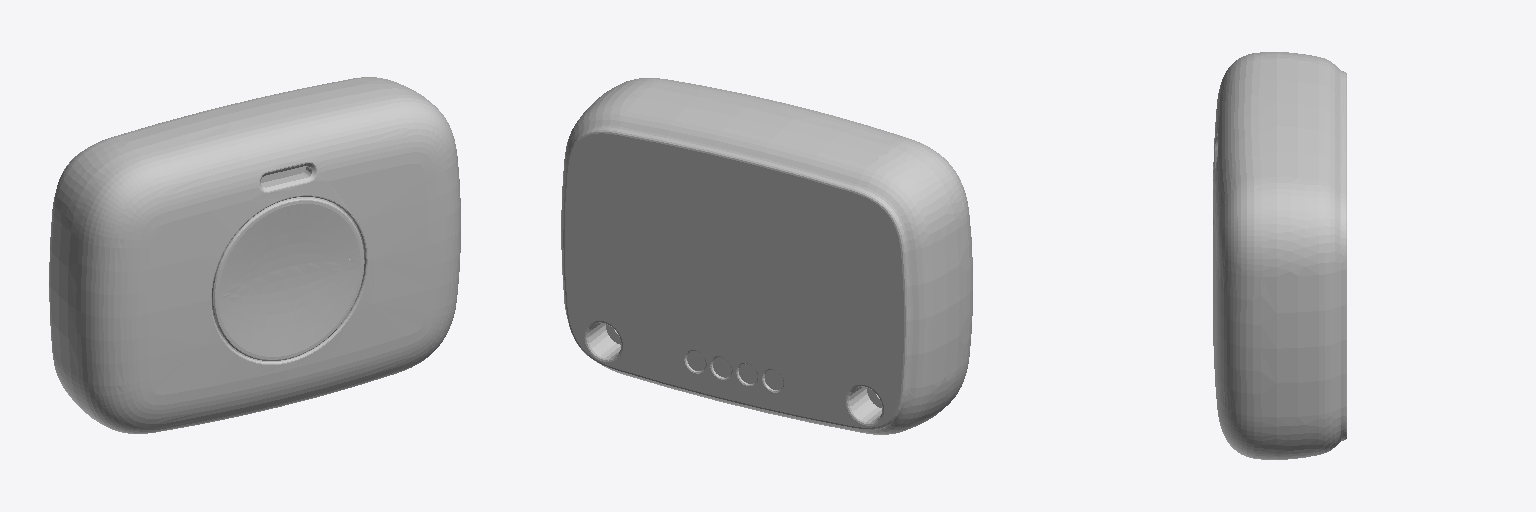
File: thingymodel_obj.obj
The picture shows the model from 3 angles: view 1: azimuth 30°, elevation 25°; view 2: azimuth 150°, elevation 25°; view 3: azimuth 270°, elevation 25°; orthographic projection.
Visible parts, largest first — view 1: 180125__00_ASSY_PET2000_ASM_AllCATPart; view 2: 180125__00_ASSY_PET2000_ASM_AllCATPart; view 3: 180125__00_ASSY_PET2000_ASM_AllCATPart.
Boxes of the visible parts, x1=… form: 180125__00_ASSY_PET2000_ASM_AllCATPart: x1=49, y1=77, x2=460, y2=433; 180125__00_ASSY_PET2000_ASM_AllCATPart: x1=561, y1=78, x2=972, y2=434; 180125__00_ASSY_PET2000_ASM_AllCATPart: x1=1213, y1=52, x2=1346, y2=459.
Bounding box in the file's own units: 1.86 × 1.33 × 0.5712.